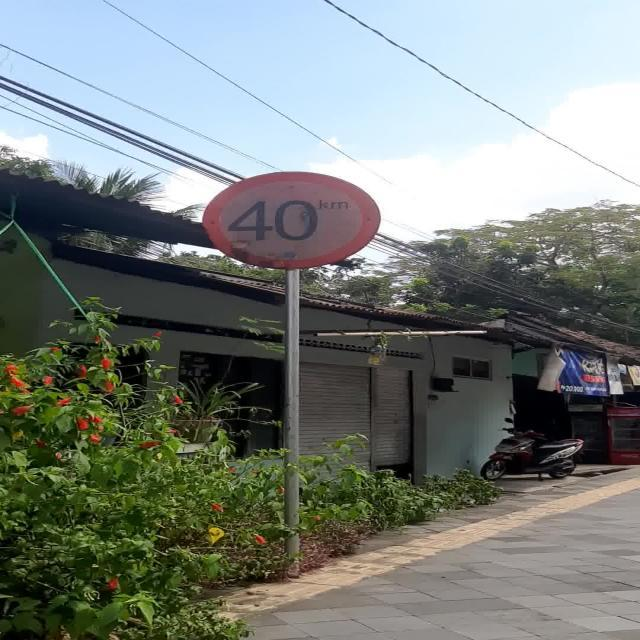Kecepatan Maks. 40 km: (202, 170, 382, 270)
